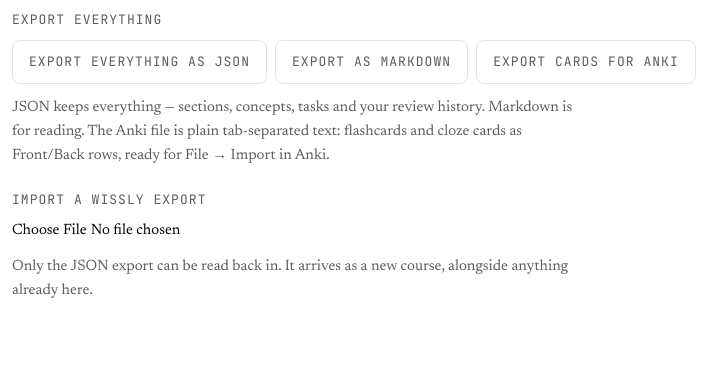
Test: ExportImportPanel › reports an export the server refused
The image size is (713, 368).
Click the button "Export everything as JSON" at x=140, y=62, box [12, 40, 267, 84]
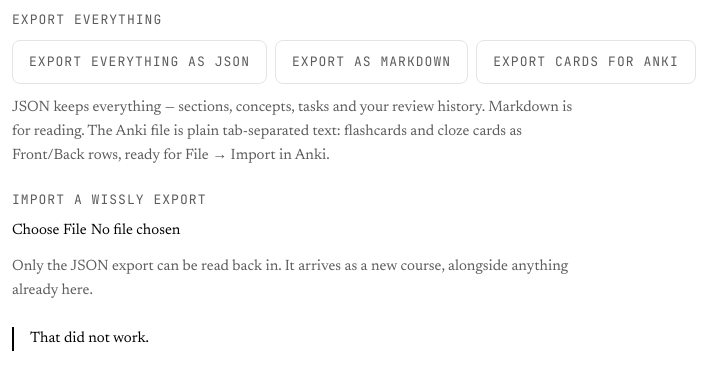
Check: the message reads "That did not work.", box [30, 331, 149, 346]
